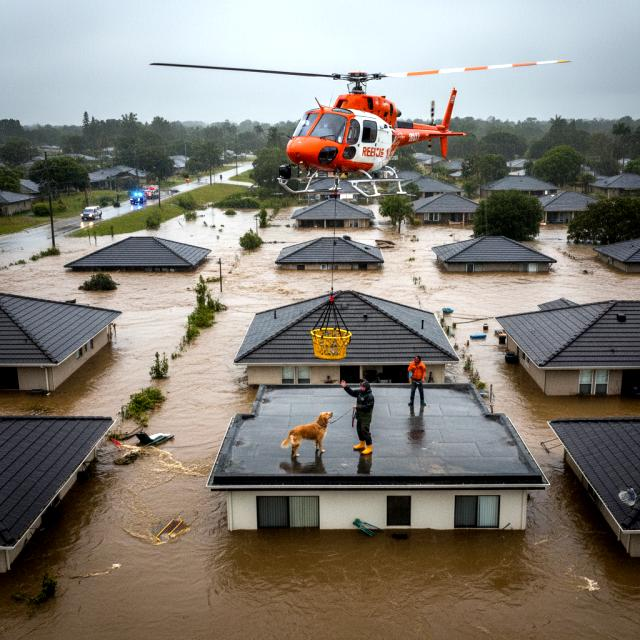civilian: (335, 375, 380, 462), (401, 351, 437, 420)
dog: (280, 407, 335, 462)
